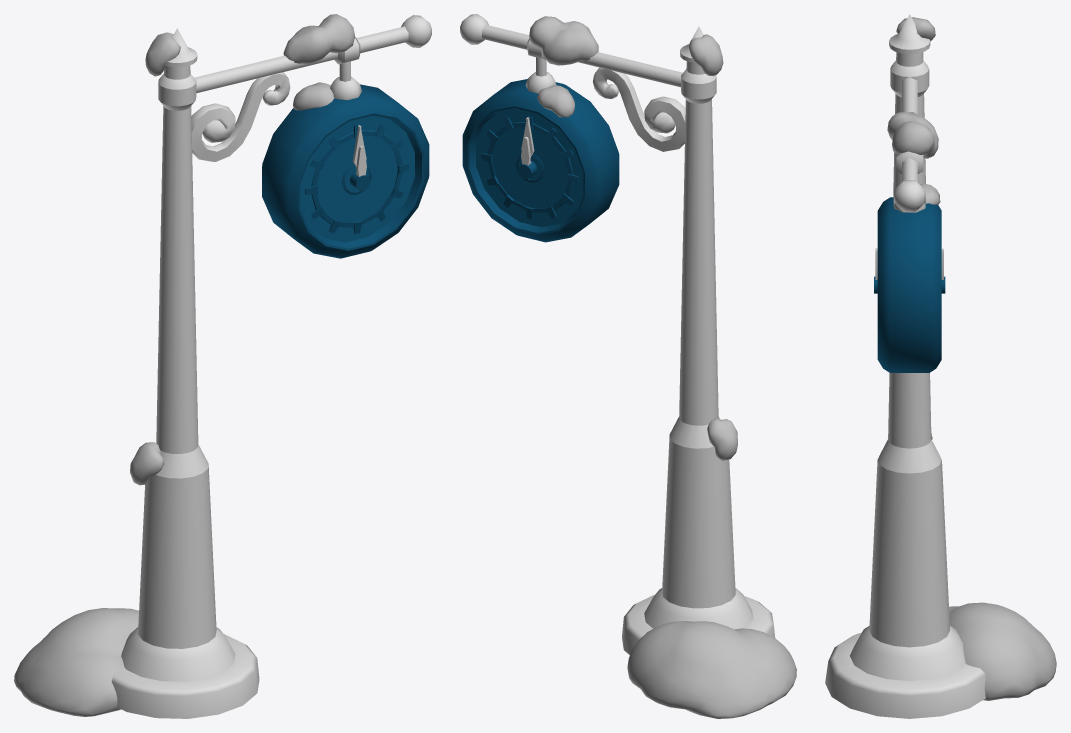
Rendered from StreetLight02.fbx.
3 views of the same model, side by side, from view 1: azimuth 30°, elevation 25°; view 2: azimuth 150°, elevation 25°; view 3: azimuth 270°, elevation 25° (orthographic). The views are drawn at different scales.
Visible parts, largest first — view 1: StreetLight02_Main, StreetLight02_Snow03, StreetLight02_Snow01, StreetLight02_Snow02; view 2: StreetLight02_Main, StreetLight02_Snow03, StreetLight02_Snow01, StreetLight02_Snow02; view 3: StreetLight02_Main, StreetLight02_Snow03, StreetLight02_Snow01.
Boxes of the visible parts, x1,y1,x2,y2 form: StreetLight02_Main: [111, 15, 431, 718]; StreetLight02_Snow03: [14, 608, 138, 716]; StreetLight02_Snow01: [145, 14, 354, 110]; StreetLight02_Snow02: [130, 442, 164, 485]; StreetLight02_Main: [460, 14, 775, 654]; StreetLight02_Snow03: [627, 621, 796, 718]; StreetLight02_Snow01: [529, 16, 723, 117]; StreetLight02_Snow02: [707, 418, 737, 460]; StreetLight02_Main: [825, 14, 985, 718]; StreetLight02_Snow03: [949, 602, 1056, 700]; StreetLight02_Snow01: [887, 17, 940, 205].
Size of the model in its own units: 1.65 by 2.83 by 0.8714.
